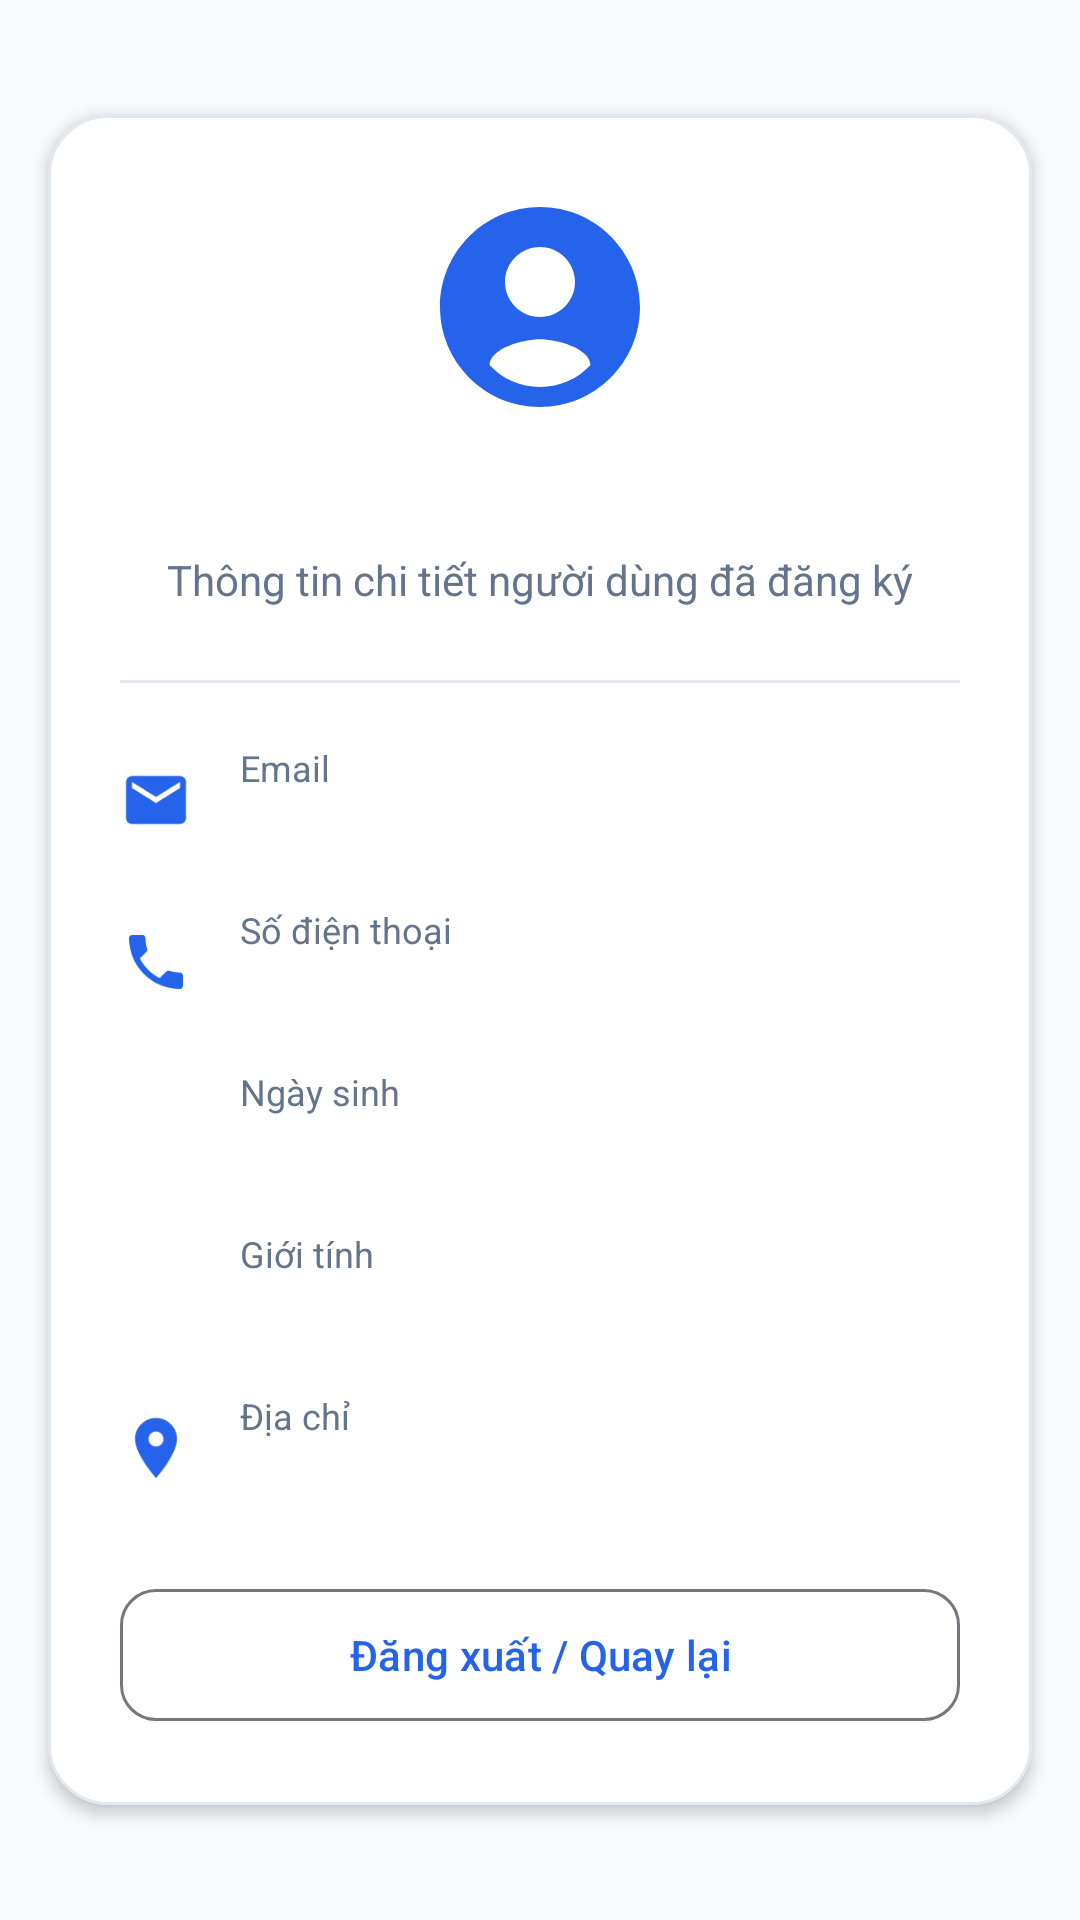

Where to tap for icons on this 1080x1920 app screen, as (x,y):
account circle: (540,307)
location: (156,1447)
phone: (156,962)
